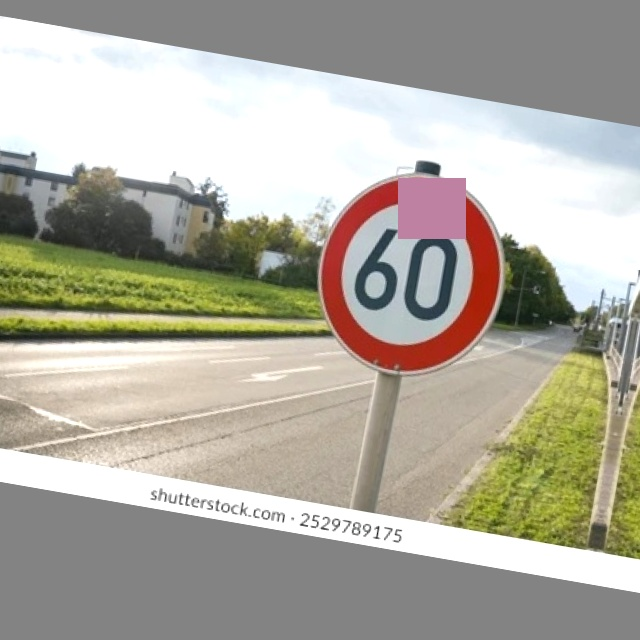Speed_Limit_60: (300, 159, 520, 386)
